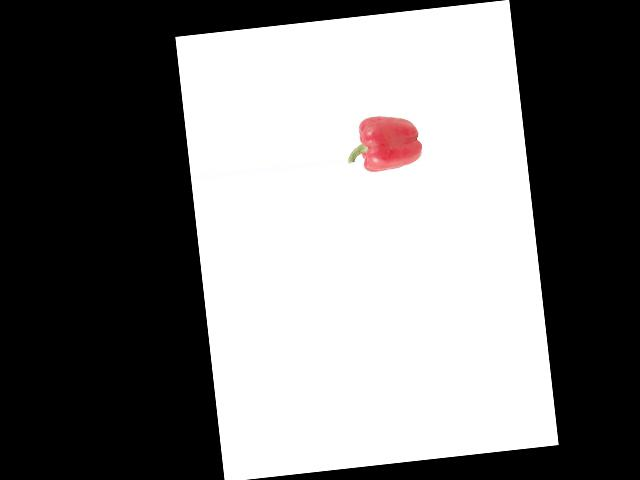bell_pepper: (343, 103, 425, 177)
